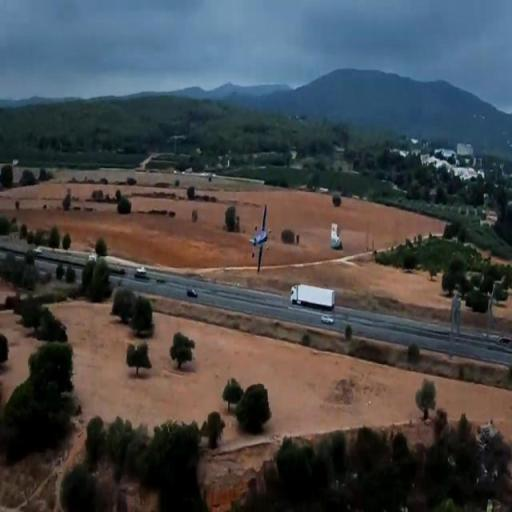uav: (248, 207, 272, 270)
